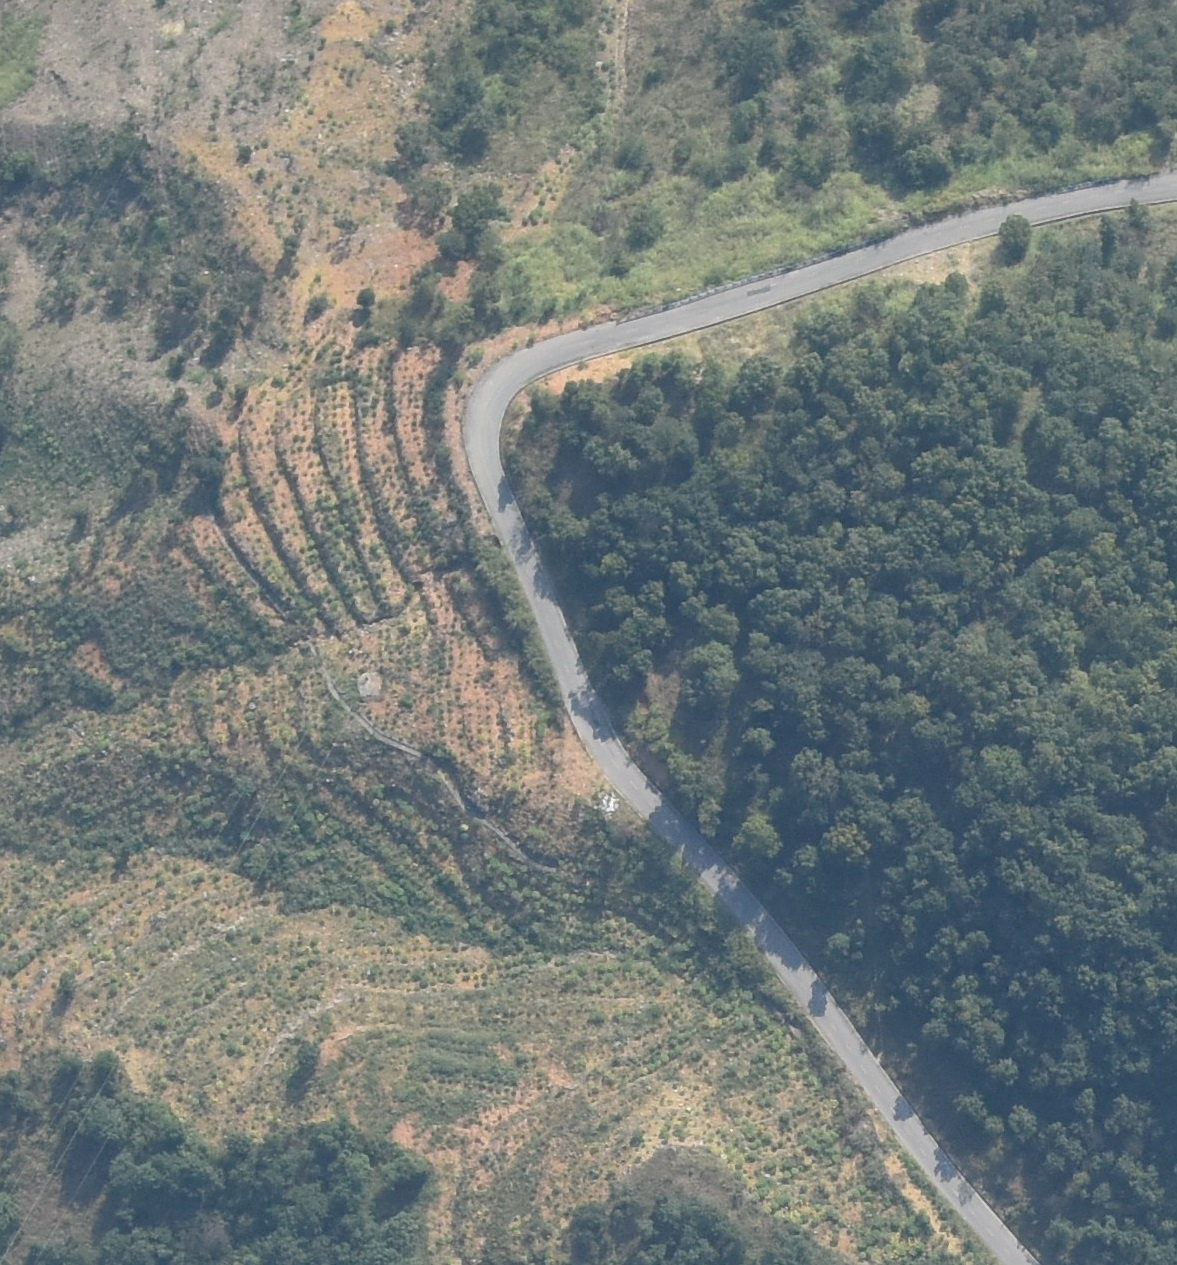well: (357, 670, 388, 705), (596, 792, 624, 824)
